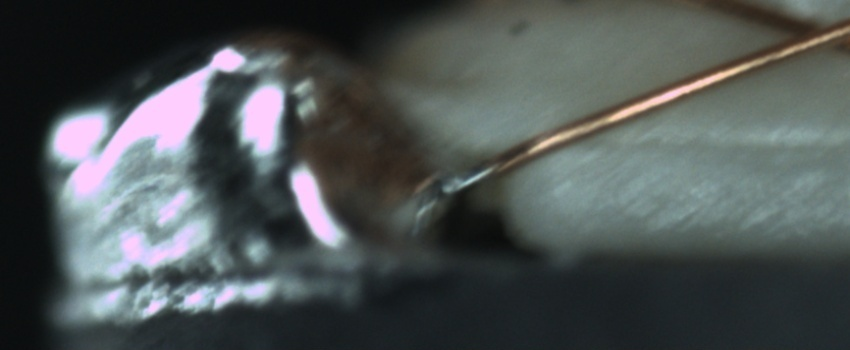CL: (760, 4, 849, 61)
DL: (570, 111, 848, 179)
TS: (436, 158, 495, 195)
